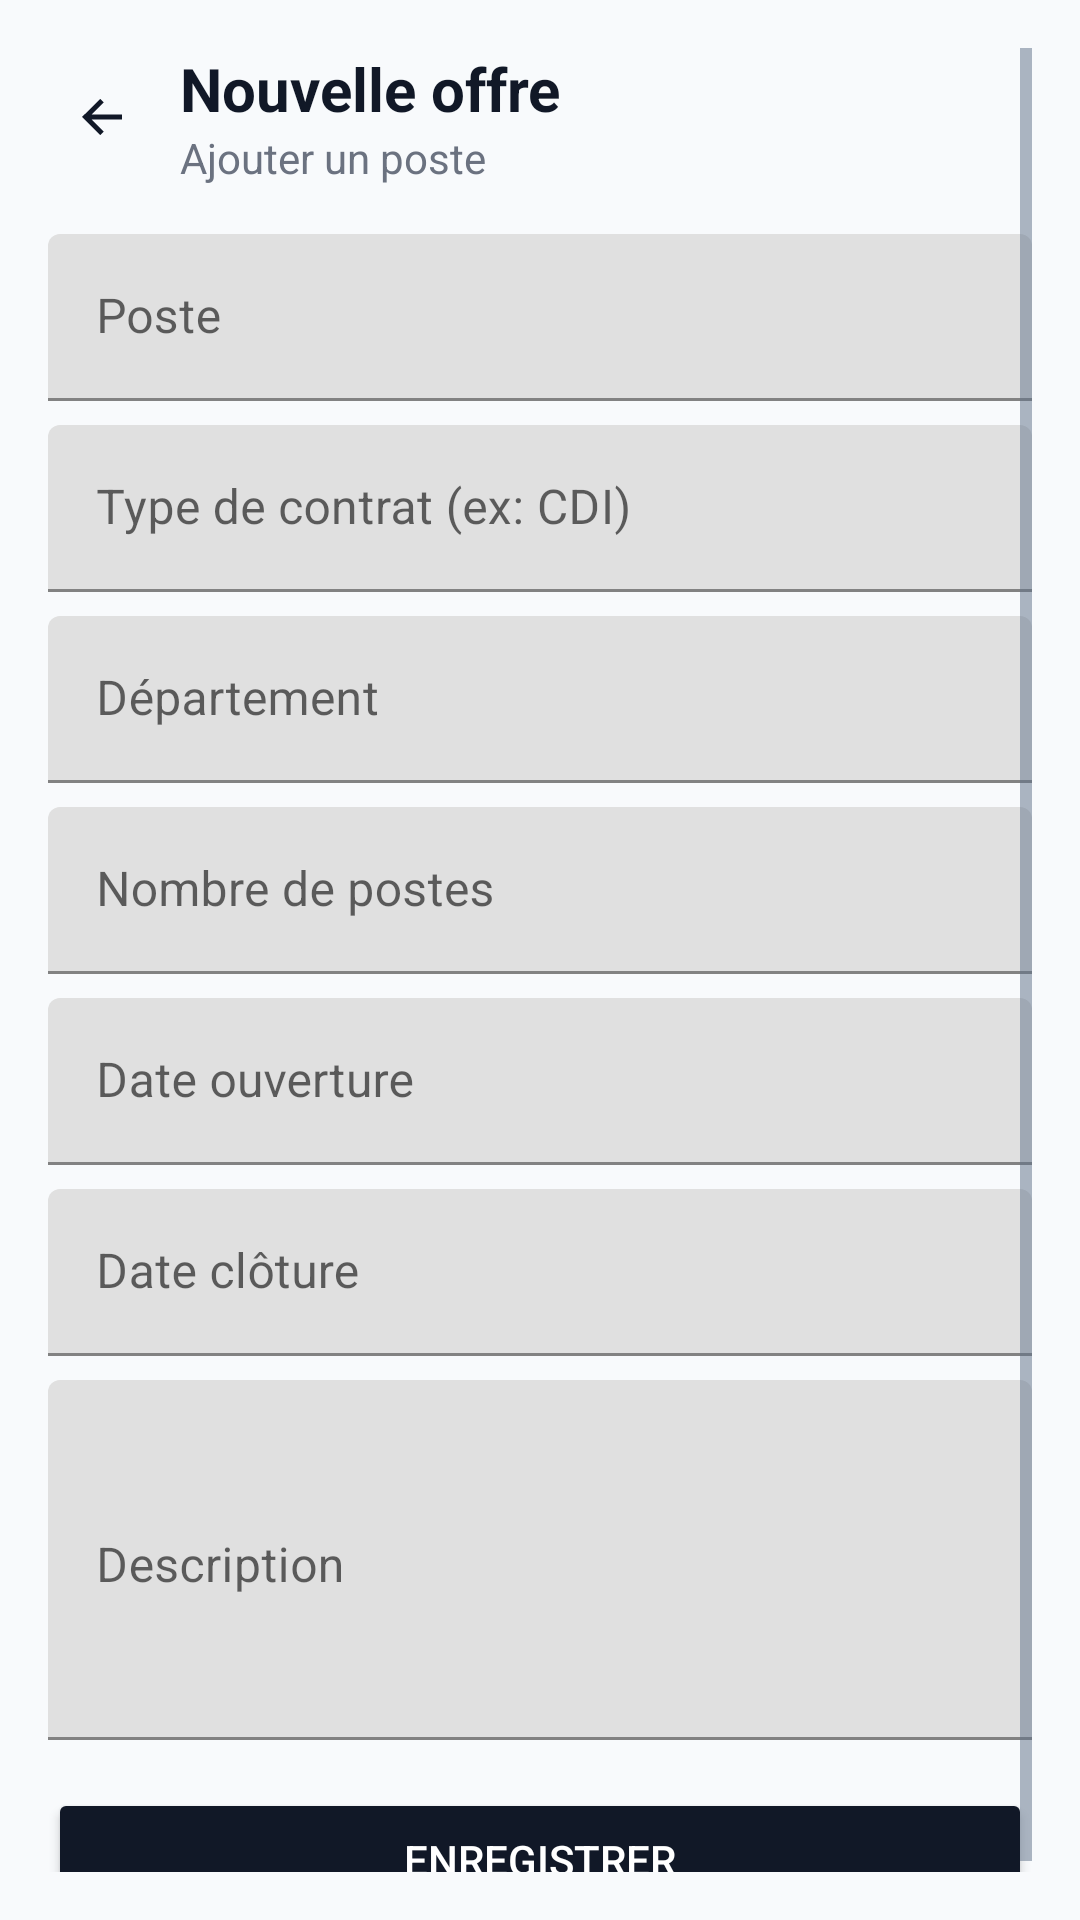

Where icons sit on this 1080*1920 app screen, as box(x1, y1, x2, y2):
arrow back: box(82, 99, 122, 135)
